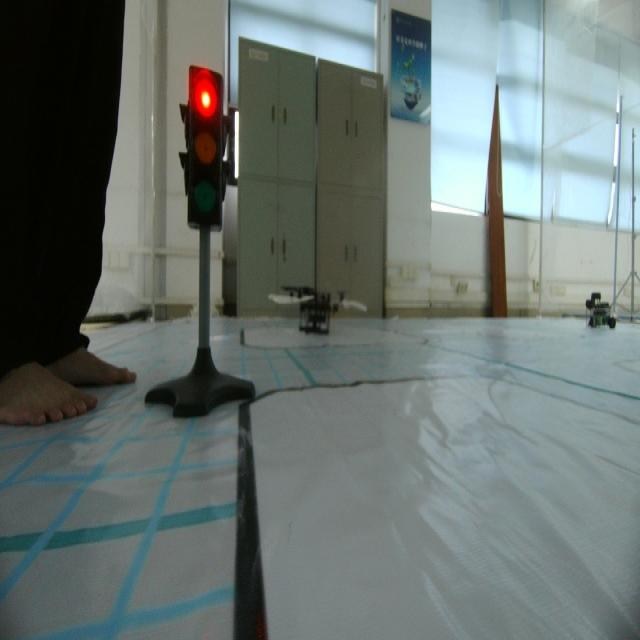red: (179, 55, 229, 236)
